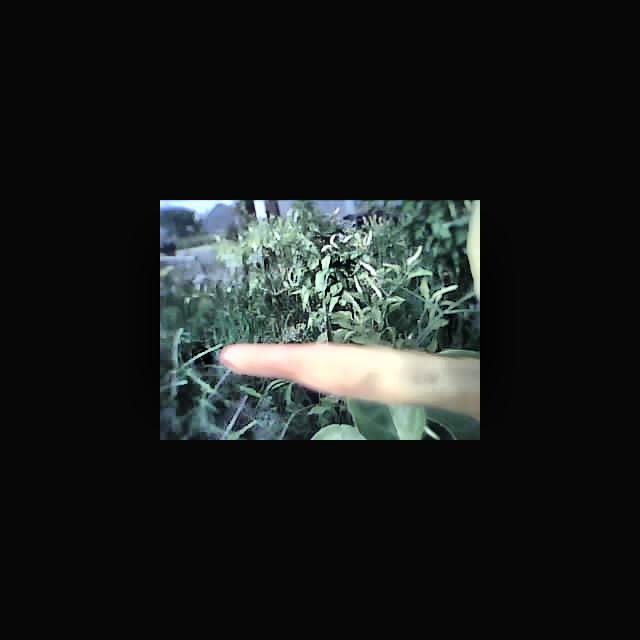Cabai: (227, 343, 480, 411)
